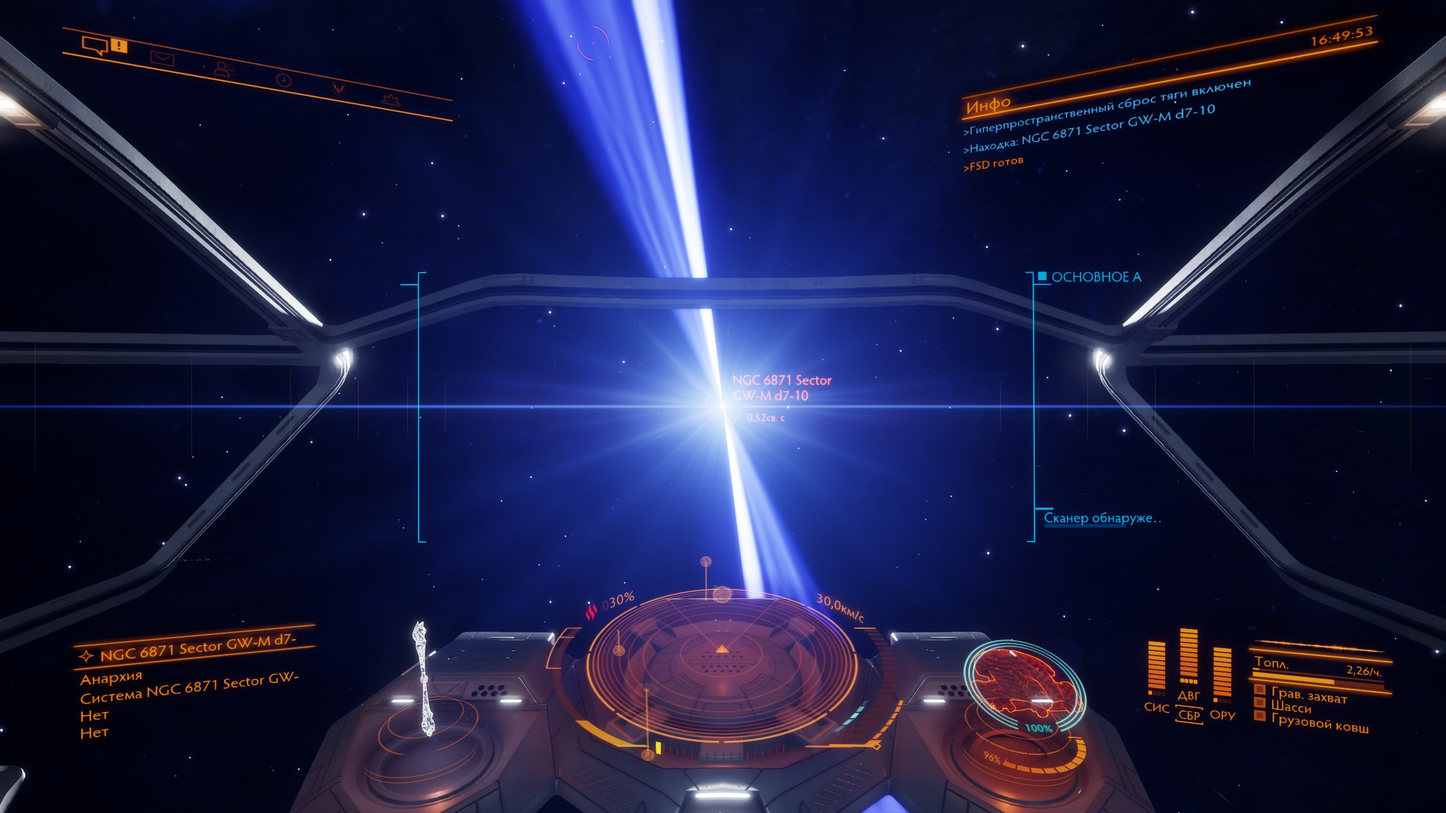jetcone: (256, 0, 1089, 627), (160, 176, 308, 321)
